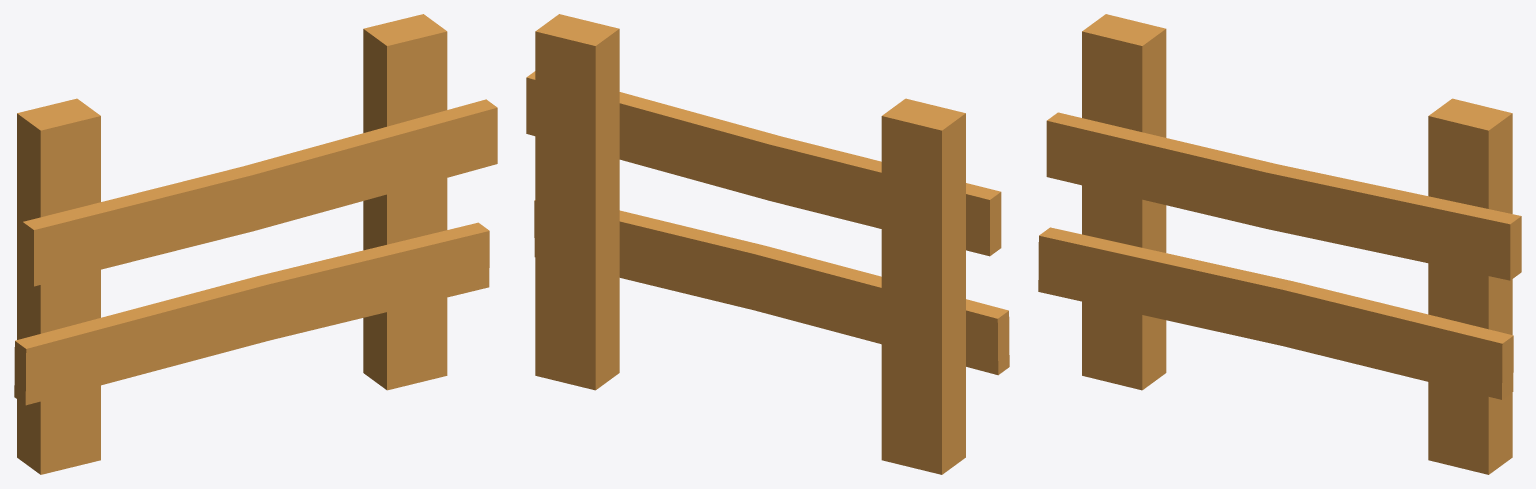
The model's file is Fence3.fbx.
3 renders of one model, left to right at view 1: azimuth 30°, elevation 25°; view 2: azimuth 150°, elevation 25°; view 3: azimuth 330°, elevation 25°, orthographic.
Visible parts, largest first — view 1: Fence3; view 2: Fence3; view 3: Fence3.
Boxes of the visible parts, x1,y1,x2,y2 form: Fence3: (14,14,497,474); Fence3: (526,14,1009,474); Fence3: (1038,14,1521,474).
Size of the model in its own units: 186 by 130 by 26.12.
